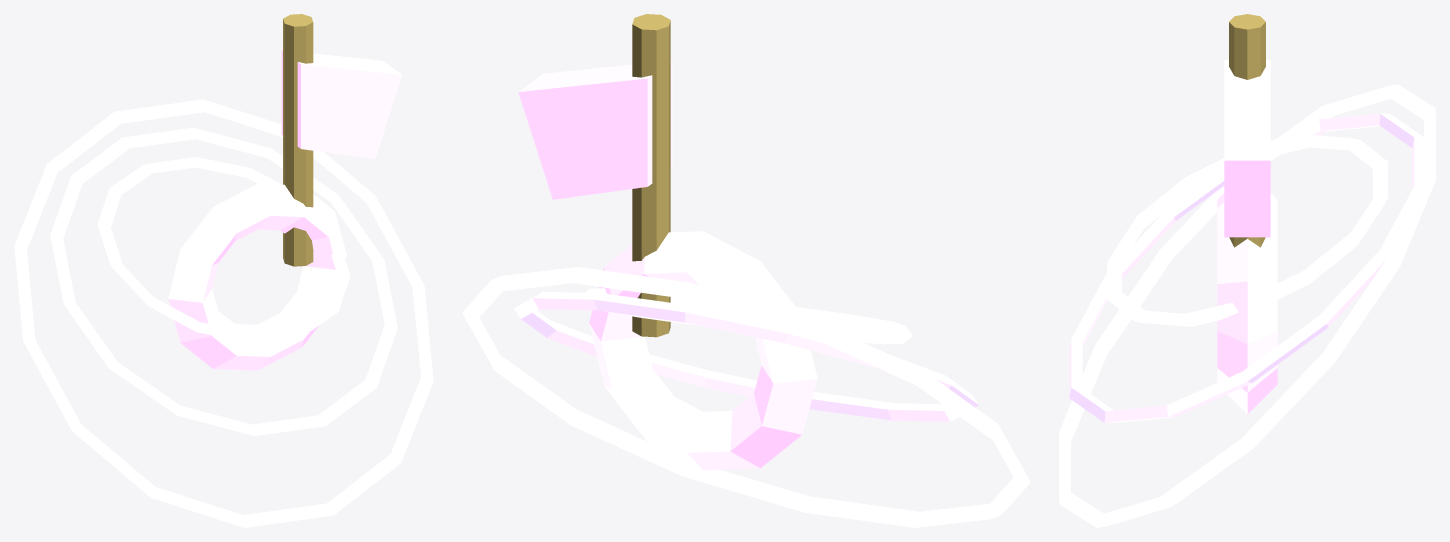
Rendered from mocking_verse.glb.
3 renders of one model, left to right at view 1: azimuth 30°, elevation 25°; view 2: azimuth 150°, elevation 25°; view 3: azimuth 270°, elevation 25°, orthographic. The views are drawn at different scales.
Parts seen in each view (by area): view 1: SoundWave_2, NoteHead, SoundWave_1, NoteFlag, SoundWave_0, NoteStem; view 2: NoteHead, SoundWave_2, NoteFlag, SoundWave_1, NoteStem, SoundWave_0; view 3: SoundWave_2, SoundWave_1, SoundWave_0, NoteHead, NoteFlag, NoteStem.
Boxes of the visible parts, x1,y1,x2,y2 form: SoundWave_2: (14, 99, 433, 527); NoteHead: (168, 183, 346, 370); SoundWave_1: (50, 127, 397, 435); NoteFlag: (281, 50, 401, 158); SoundWave_0: (97, 157, 350, 342); NoteStem: (283, 14, 313, 266); NoteHead: (589, 231, 817, 470); SoundWave_2: (462, 267, 1030, 527); NoteFlag: (518, 60, 672, 199); SoundWave_1: (514, 292, 978, 421); NoteStem: (632, 14, 670, 337); SoundWave_0: (585, 288, 912, 344); SoundWave_2: (1059, 84, 1435, 527); SoundWave_1: (1069, 113, 1423, 422); SoundWave_0: (1107, 134, 1387, 326); NoteHead: (1217, 193, 1277, 413); NoteFlag: (1224, 60, 1270, 237); NoteStem: (1229, 14, 1265, 247).
Bounding box in the file's own units: 1.19 × 1.21 × 0.8137.
